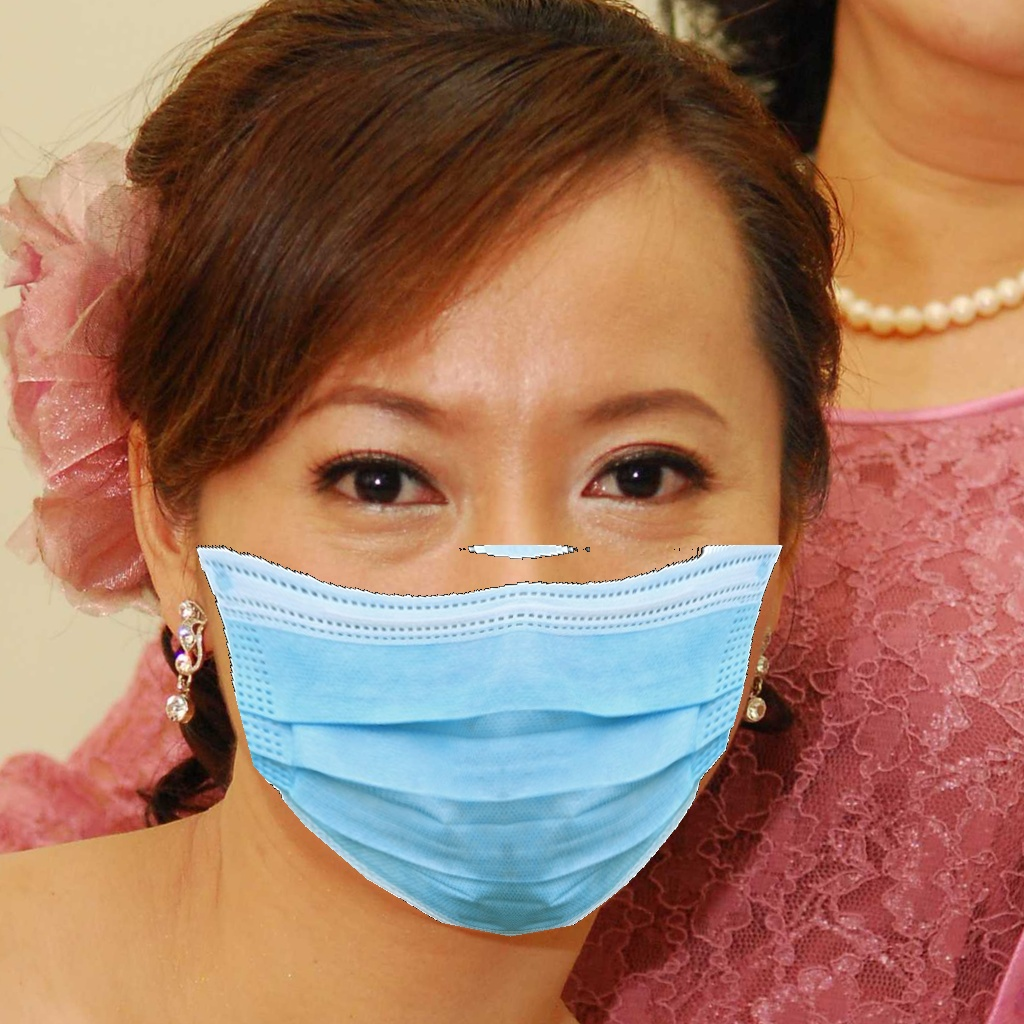Mask: (190, 350, 787, 947)
